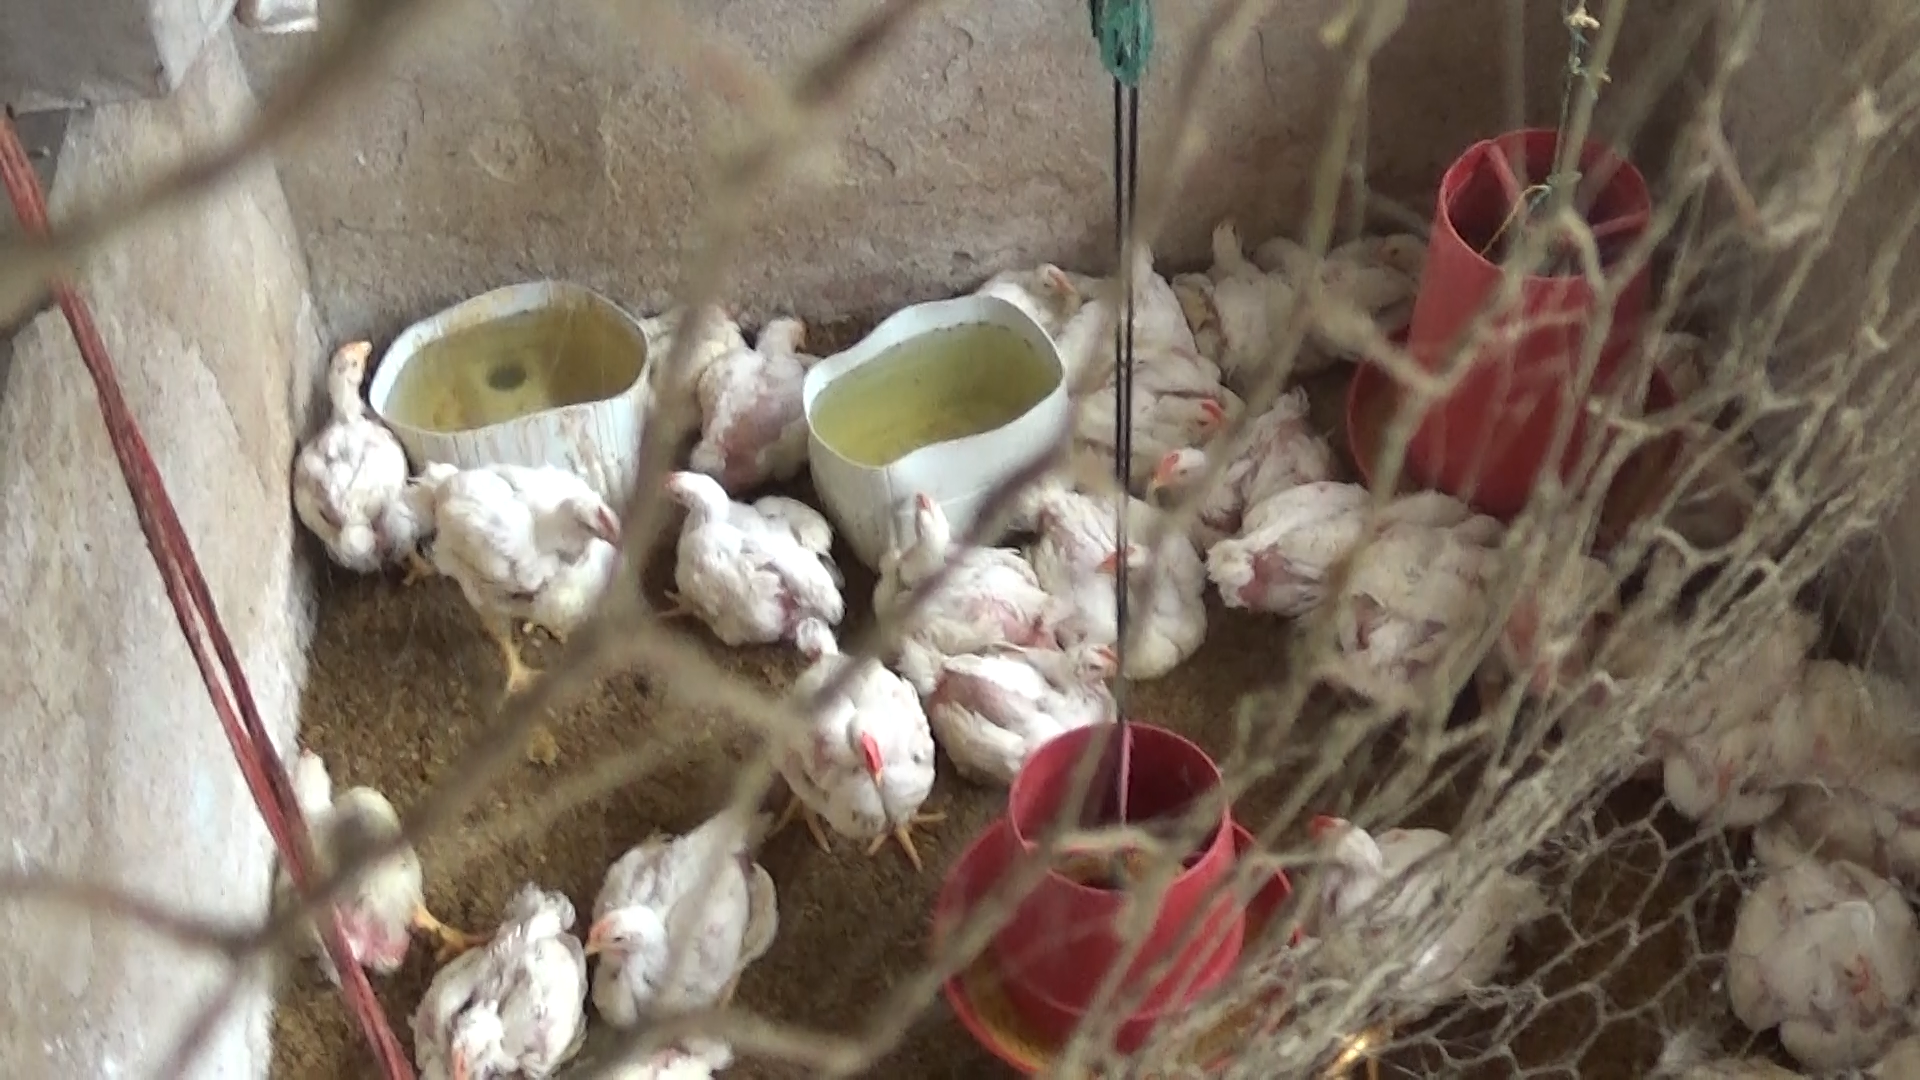Pollos: (419, 440, 637, 694), (752, 618, 945, 872), (580, 785, 775, 1021), (401, 866, 612, 1080), (887, 462, 1060, 680), (268, 324, 407, 576), (926, 624, 1137, 781), (675, 286, 840, 479), (1042, 504, 1207, 692), (655, 477, 833, 649), (1291, 796, 1443, 936), (1685, 732, 1807, 873), (1007, 233, 1133, 334), (1133, 419, 1225, 524), (1822, 938, 1900, 1029), (1360, 214, 1443, 298), (1162, 375, 1240, 431)
